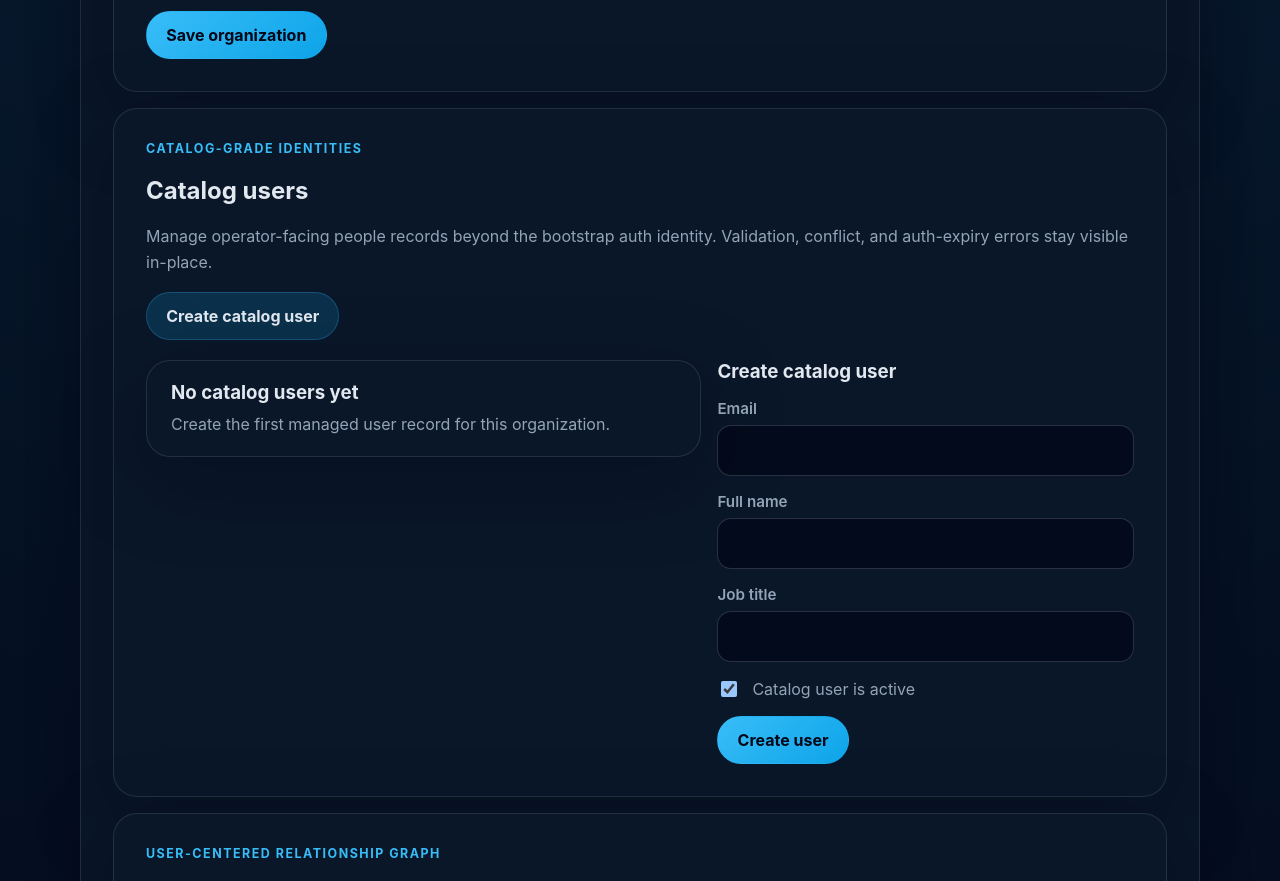
catalog workspace › creates a catalog user and refreshes the live workspace
(page scrolled)
expect the heading "No catalog users yet" is shown: met, box left=171, top=381, right=358, bottom=404
In the field labelled "Email": (926, 450) left=717, top=425, right=1134, bottom=476, type "grace@example.com"
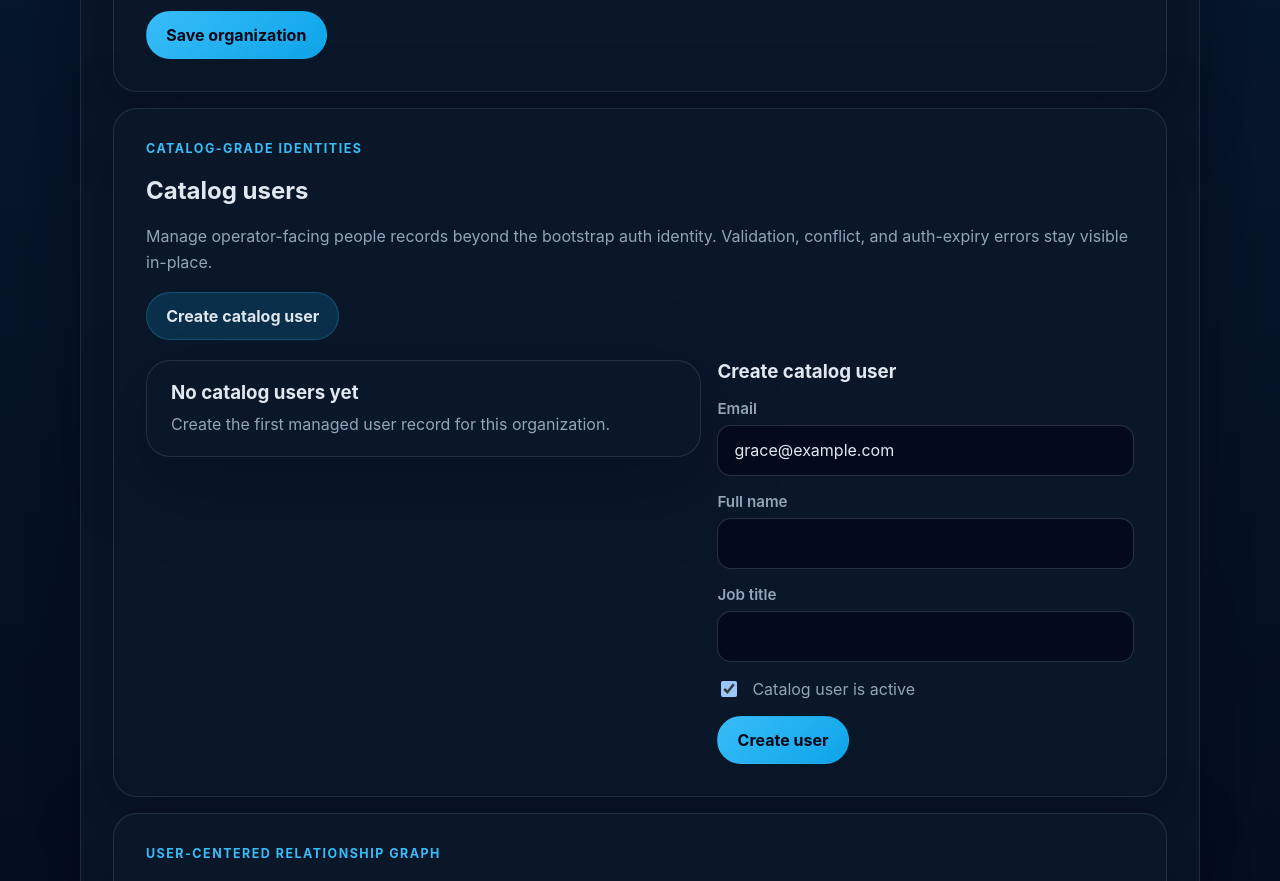
In the field labelled "Full name": (926, 543) left=717, top=518, right=1134, bottom=569, type "Grace Hopper"
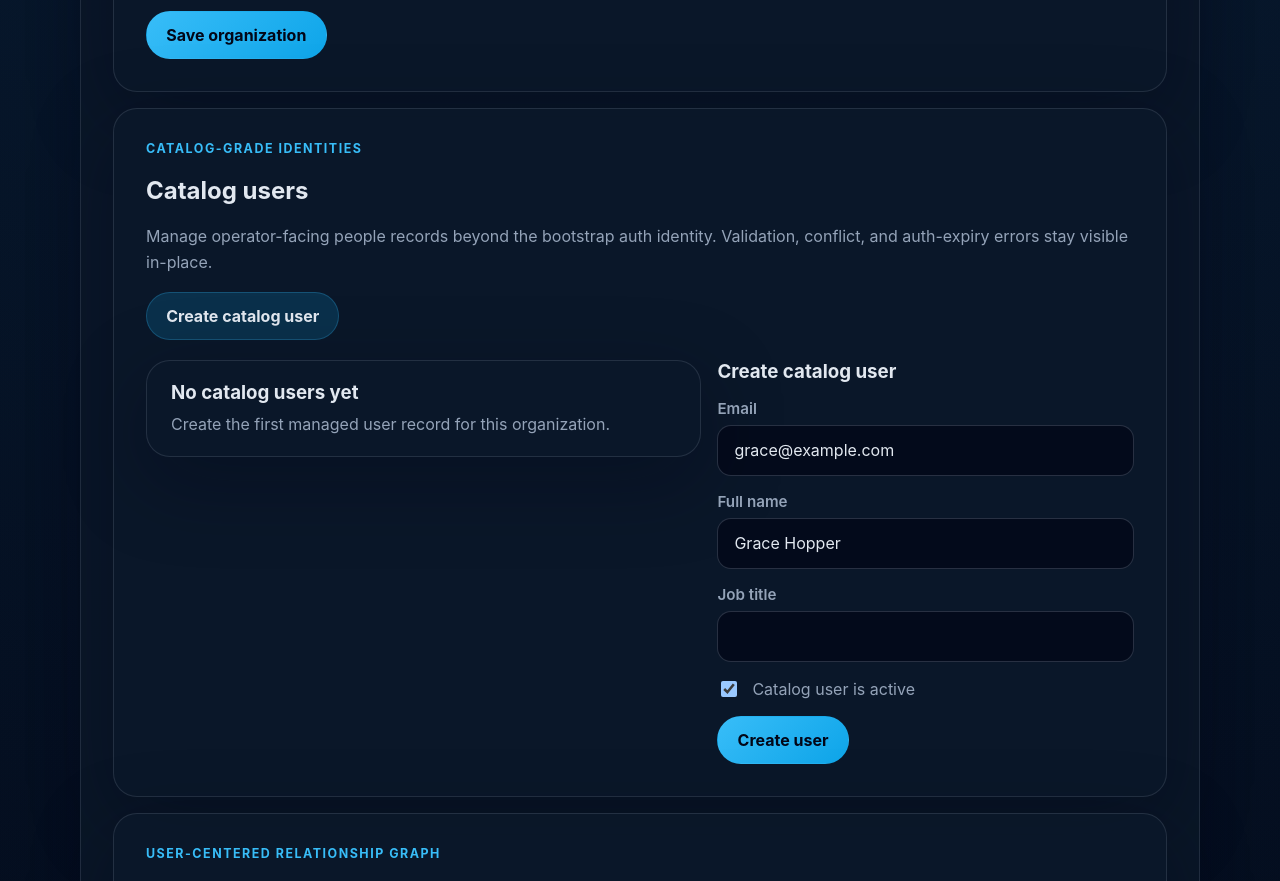
In the field labelled "Job title": (926, 636) left=717, top=611, right=1134, bottom=662, type "Engineer"
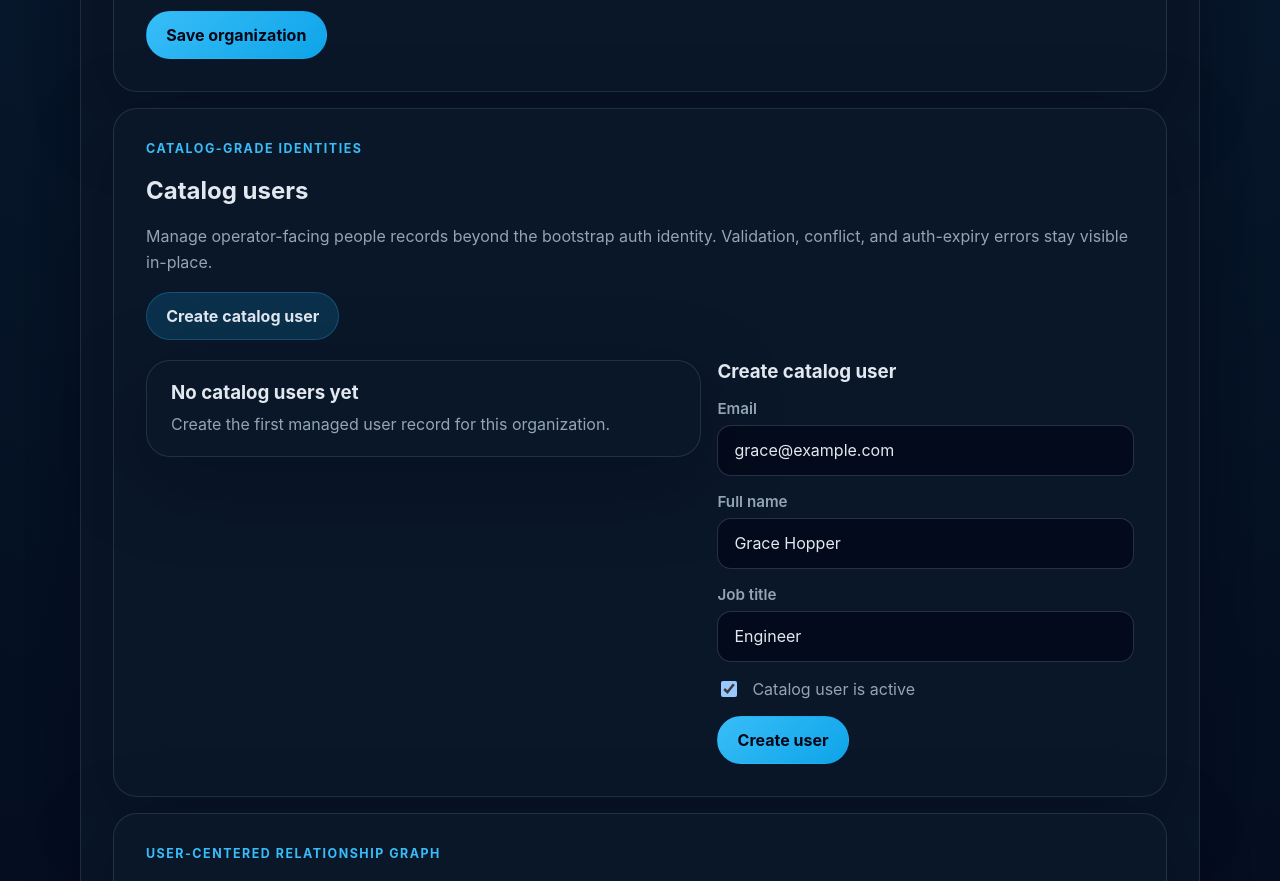
Click the button "Create user": (783, 740) left=717, top=716, right=849, bottom=764
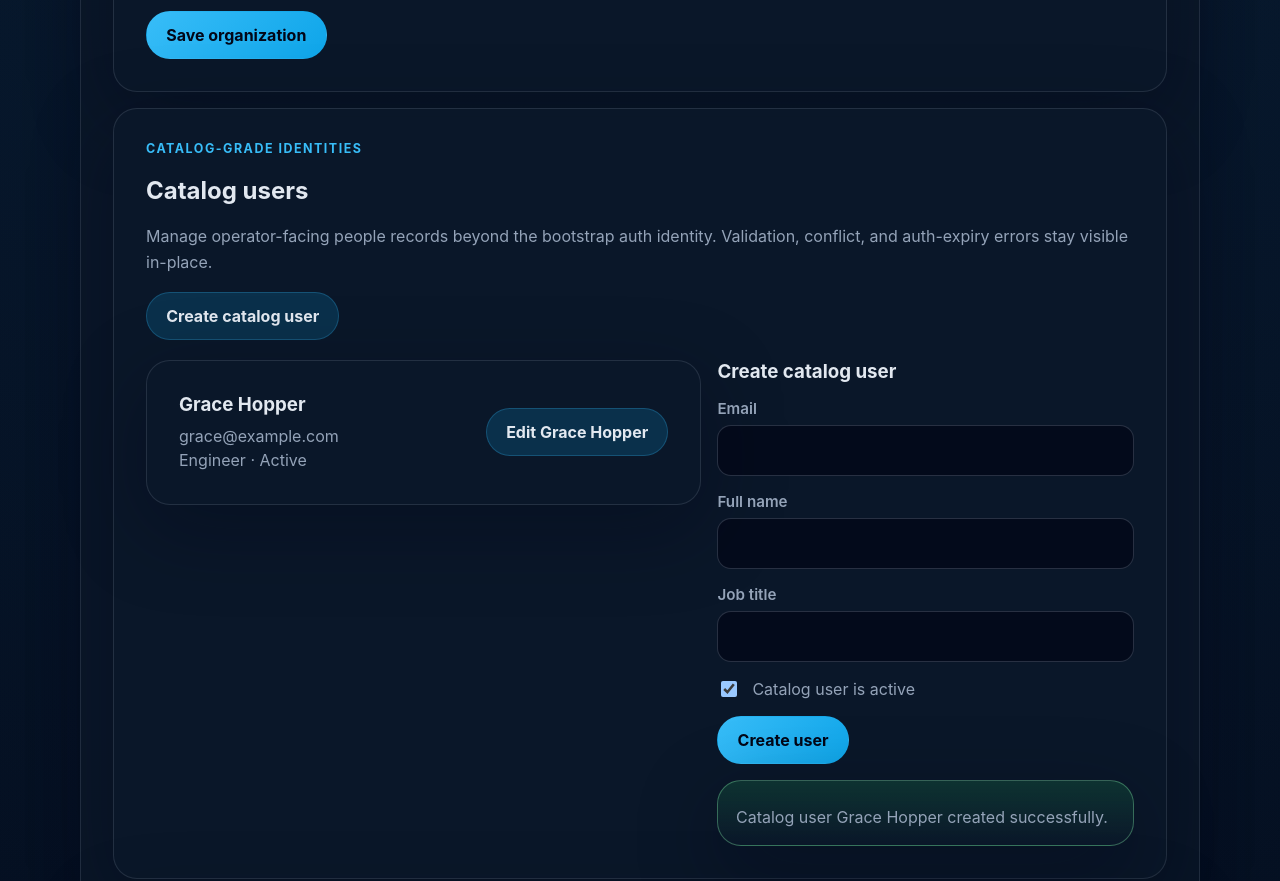
expect the text "Catalog user Grace Hopper created successfully." is shown: met, box left=736, top=805, right=1115, bottom=829
expect the button "Edit Grace Hopper" is shown: met, box left=486, top=408, right=668, bottom=456
